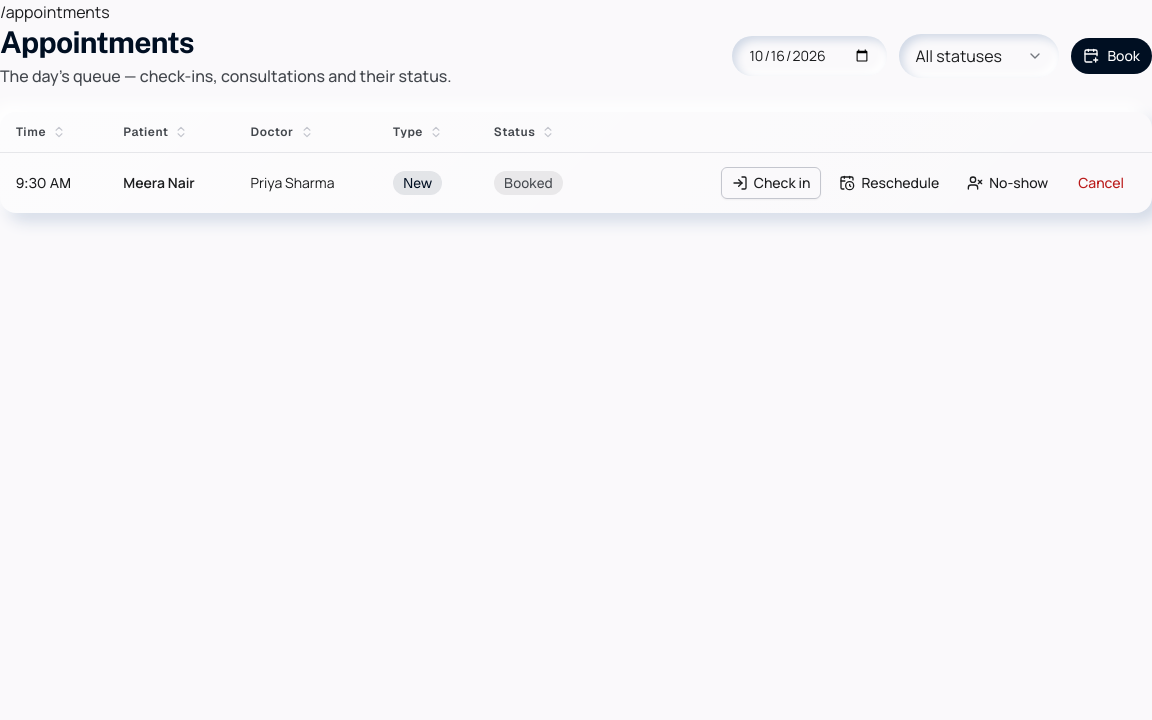
Test: receptionist: patient to appointment › cancels an appointment from the queue, with a reason
Click the button with aria-label "Cancel appointment for Meera Nair" at (1101,183), box x1=1066 y1=167 x2=1136 y2=199
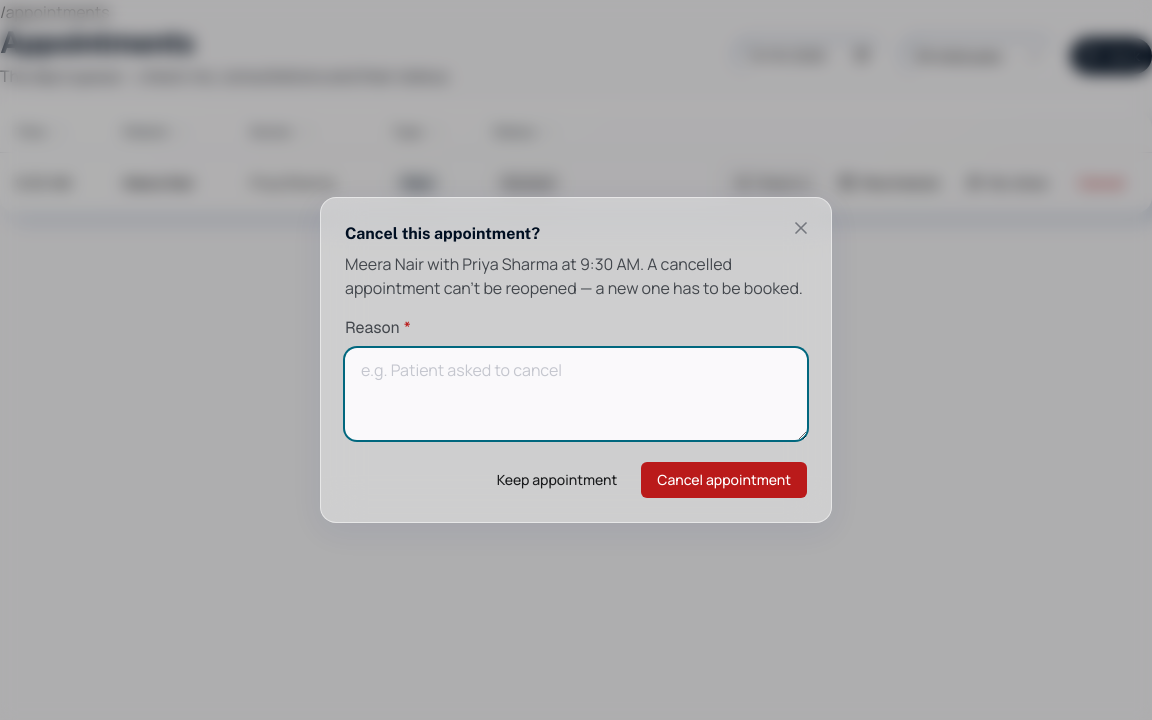
Type "Patient asked to cancel" into the text box labelled "Reason *" at (576,394), box x1=345 y1=348 x2=807 y2=440
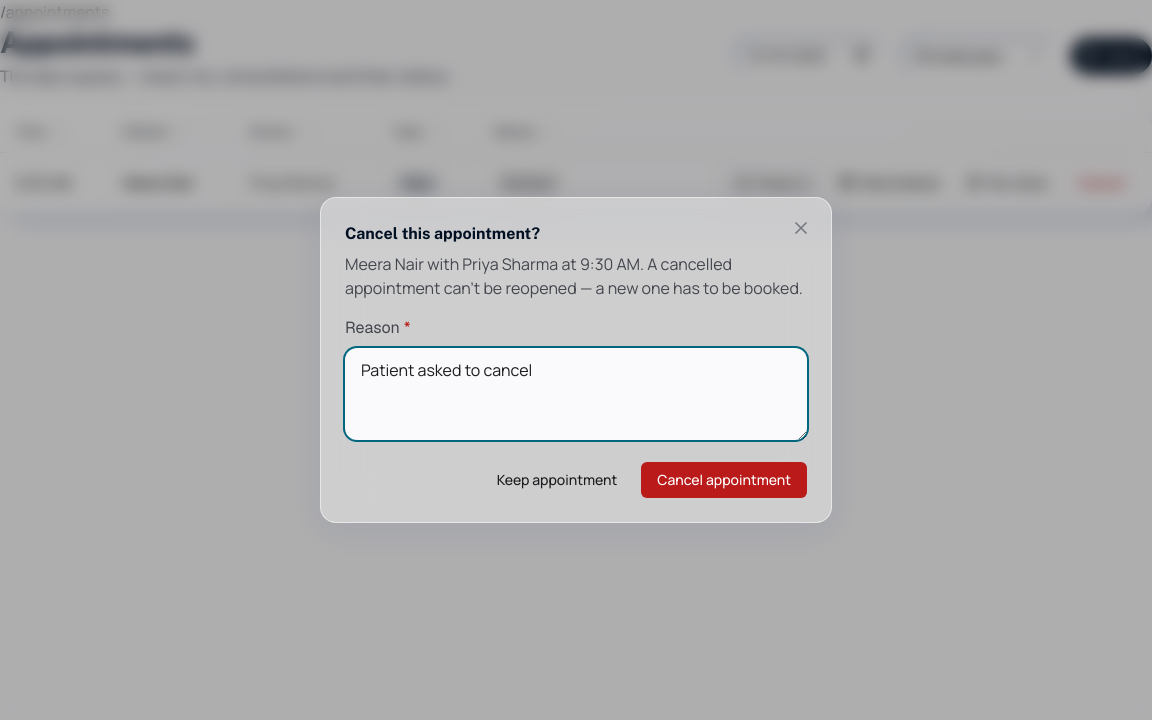
Click the button "Cancel appointment" at (724,480), box x1=641 y1=462 x2=807 y2=498
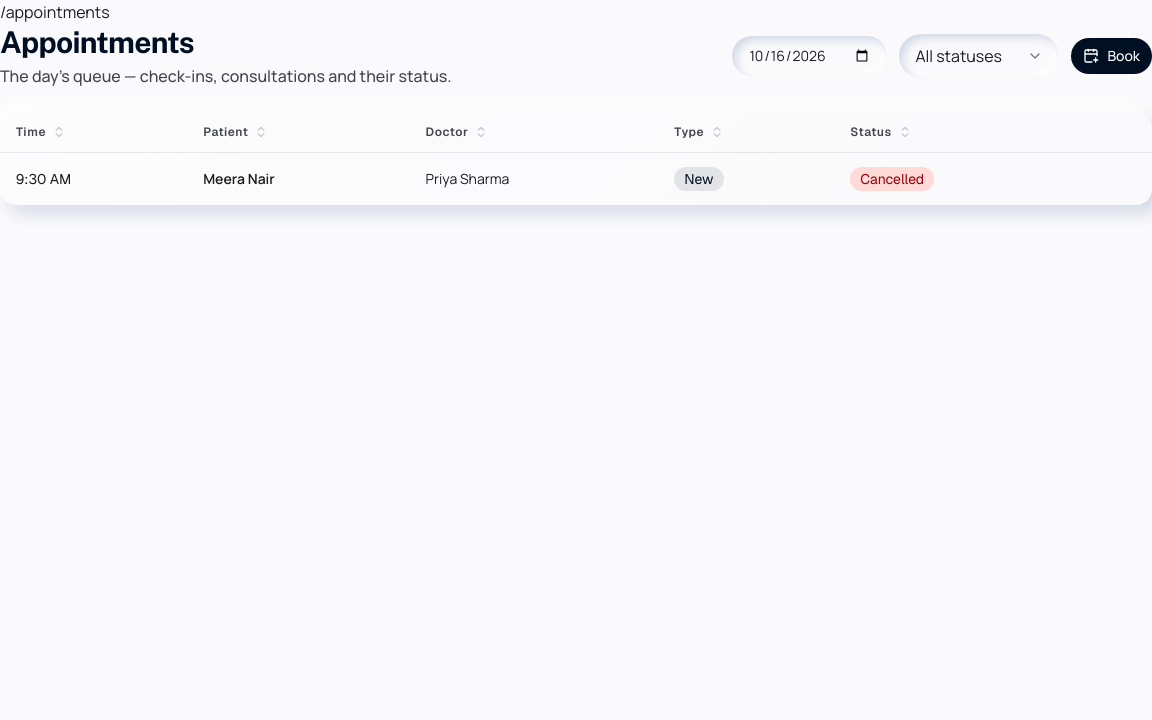
Result: the text "Cancelled" is shown at x1=850 y1=167 x2=934 y2=191
Result: no the button "Check in" are shown
